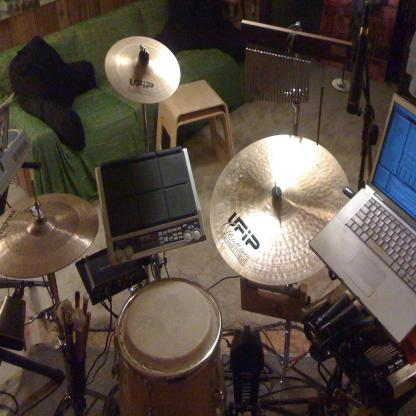board: (309, 91, 416, 344)
